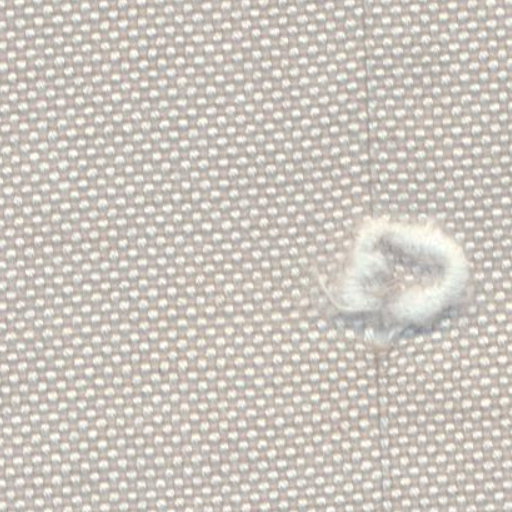DuanSha: (321, 196, 485, 362)
